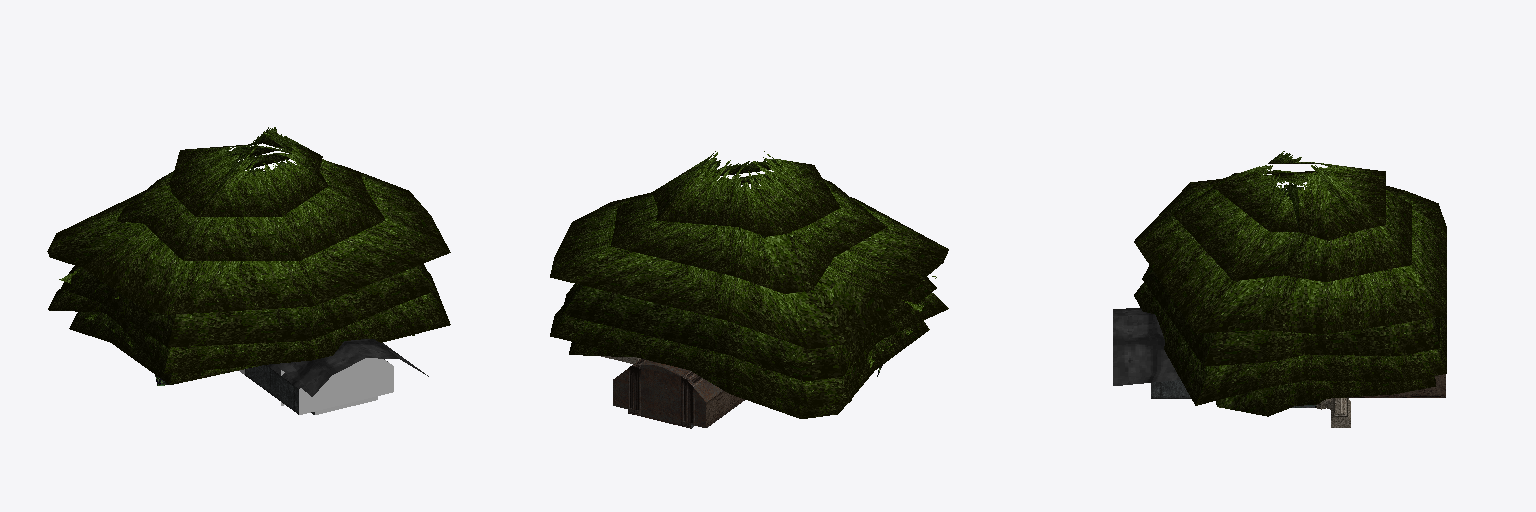
3 views of the same model, side by side, from view 1: azimuth 30°, elevation 25°; view 2: azimuth 150°, elevation 25°; view 3: azimuth 270°, elevation 25° (orthographic).
Visible parts, largest first — view 1: #Room0#_Background#NoCollision_ForestBackground., #Room0#_Plane.021_BlackColor., #Room0#_Plane.021_Concrete., #Room0#_Plane.021_MetalWall.; view 2: #Room0#_Background#NoCollision_ForestBackground., #Room0#_Plane.015_Piranesi_material_124., #Room0#_Plane.015_WornWall.; view 3: #Room0#_Background#NoCollision_ForestBackground., #Room0#_Plane.021_Concrete., #Room0#_Plane.021_Dark_Wood., #Room0#_Plane.021_MetalWall..
Boxes of the visible parts, x1,y1,x2,y2 form: #Room0#_Background#NoCollision_ForestBackground.: [47, 127, 450, 384]; #Room0#_Plane.021_BlackColor.: [299, 358, 393, 414]; #Room0#_Plane.021_Concrete.: [267, 339, 428, 396]; #Room0#_Plane.021_MetalWall.: [245, 365, 298, 414]; #Room0#_Background#NoCollision_ForestBackground.: [550, 151, 948, 418]; #Room0#_Plane.015_Piranesi_material_124.: [613, 359, 722, 428]; #Room0#_Plane.015_WornWall.: [706, 390, 743, 426]; #Room0#_Background#NoCollision_ForestBackground.: [1134, 151, 1446, 416]; #Room0#_Plane.021_Concrete.: [1113, 308, 1180, 385]; #Room0#_Plane.021_Dark_Wood.: [1326, 397, 1350, 427]; #Room0#_Plane.021_MetalWall.: [1151, 380, 1190, 398].
Bounding box in the file's own units: 8066 × 4878 × 6681.
Materials: 75 (52 with a texture image).